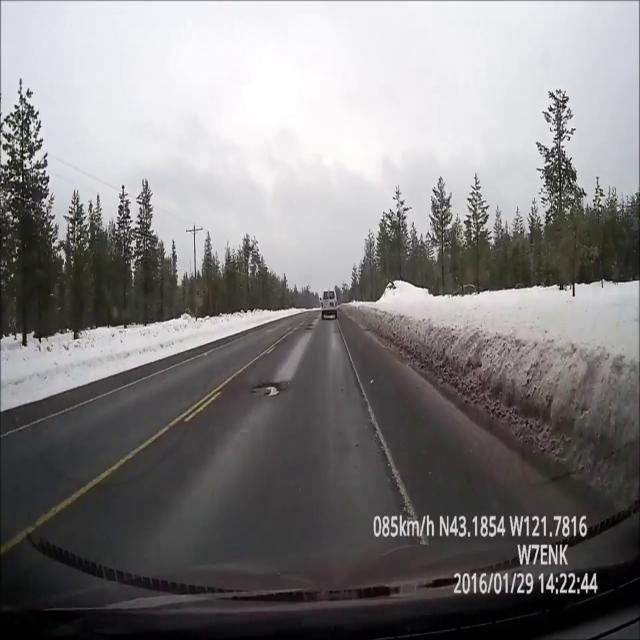pothole: (246, 366, 292, 416), (302, 317, 320, 344)
